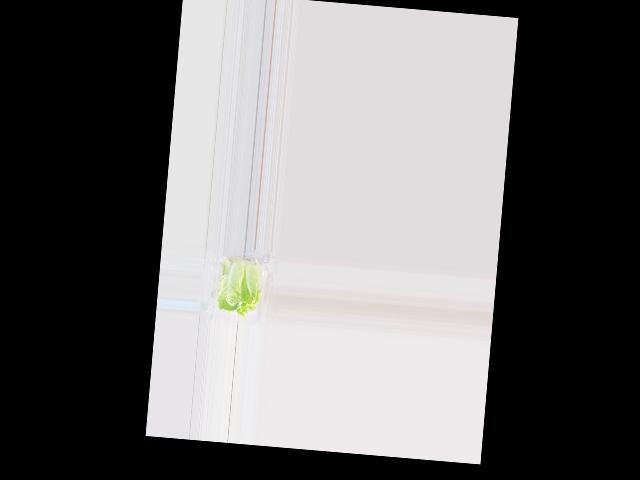lettuce: (215, 259, 263, 318)
